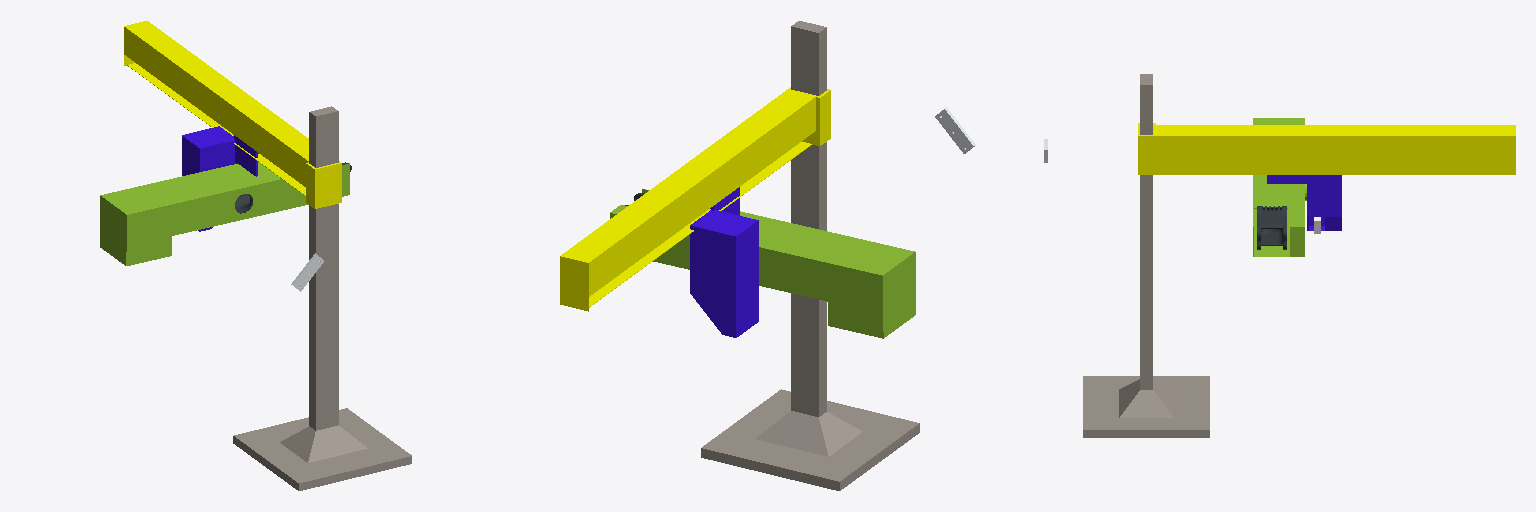
The robot description file, URDF, robot "MG6010":
<?xml version="1.0" encoding="utf-8"?>
<!--
MG6010 FLU (Front-Left-Up) URDF for Gazebo Harmonic Simulation
Based on SolidWorks export v12 (2024-10-17) with Gazebo additions:
  - Joint names without spaces (required by Gazebo + motion_controller)
  - Non-zero effort/velocity limits (required for Gazebo physics)
  - Lightweight virtual links (prevents phantom mass dragging arm)
  - JointPositionController plugins with tuned PID
  - Mesh paths use package://robot_description/

Original SolidWorks URDF: sw_urdf_exporter 1.6.0-4-g7f85cfe
-->
<robot name="MG6010">

  <!-- ==================== base_link ==================== -->
  <link name="base_link">
    <inertial>
      <origin xyz="-0.001334 3.1586E-15 0.18943" rpy="0 0 0" />
      <mass value="29.128" />
      <inertia ixx="2.1068" ixy="-3.3076E-15" ixz="-0.0069722"
               iyy="2.1115" iyz="1.688E-14" izz="0.22457" />
    </inertial>
    <visual>
      <origin xyz="0 0 0" rpy="0 0 0" />
      <geometry>
        <mesh filename="package://robot_description/meshes/base_link.STL" />
      </geometry>
      <material name="">
        <color rgba="0.65098 0.61961 0.58824 1" />
      </material>
    </visual>
    <collision>
      <origin xyz="0 0 0" rpy="0 0 0" />
      <geometry>
        <mesh filename="package://robot_description/meshes/base_link.STL" />
      </geometry>
    </collision>
  </link>

  <!-- ==================== link2 ==================== -->
  <link name="link2">
    <inertial>
      <origin xyz="0.0023258 0.39197 0.0012124" rpy="0 0 0" />
      <mass value="7.2824" />
      <inertia ixx="0.56505" ixy="-0.0011051" ixz="0.00023875"
               iyy="0.0071252" iyz="-0.00046822" izz="0.56327" />
    </inertial>
    <visual>
      <origin xyz="0 0 -0.445" rpy="0 0 0" />
      <geometry>
        <mesh filename="package://robot_description/meshes/link2.STL" />
      </geometry>
      <material name="">
        <color rgba="1 1 0 1" />
      </material>
    </visual>
    <collision>
      <origin xyz="0 0 0" rpy="0 0 0" />
      <geometry>
        <mesh filename="package://robot_description/meshes/link2.STL" />
      </geometry>
    </collision>
  </link>

  <!-- joint2: prismatic Z (lifts the arm vertically) -->
  <joint name="joint2" type="prismatic">
    <origin xyz="0 0 0.45922" rpy="0 0 0" />
    <parent link="base_link" />
    <child link="link2" />
    <axis xyz="0 0 1" />
    <limit lower="0.1" upper="0.32" effort="100" velocity="0.5" />
  </joint>

  <!-- ==================== link4 ==================== -->
  <link name="link4">
    <inertial>
      <origin xyz="-0.044144 0.0378 -0.072925" rpy="0 0 0" />
      <mass value="0.86357" />
      <inertia ixx="0.0063398" ixy="0.00091722" ixz="-0.0017328"
               iyy="0.0061419" iyz="0.0015638" izz="0.0031822" />
    </inertial>
    <visual>
      <origin xyz="0.008 -0.334 -0.459" rpy="0 0 0" />
      <geometry>
        <mesh filename="package://robot_description/meshes/link4.STL" />
      </geometry>
      <material name="">
        <color rgba="0.292156862745098 0.119607843137255 0.933333333333333 1" />
      </material>
    </visual>
    <collision>
      <origin xyz="0 0 0" rpy="0 0 0" />
      <geometry>
        <mesh filename="package://robot_description/meshes/link4.STL" />
      </geometry>
    </collision>
  </link>

  <!-- joint4: prismatic Y (horizontal extension) -->
  <joint name="joint4" type="prismatic">
    <origin xyz="0 0.33411 0" rpy="0 0 0" />
    <parent link="link2" />
    <child link="link4" />
    <axis xyz="0 1 0" />
    <limit lower="-0.250" upper="0.350" effort="100" velocity="0.5" />
  </joint>

  <!-- ==================== link7 (camera bracket) ==================== -->
  <link name="link7">
    <inertial>
      <origin xyz="-0.004 0.0041238 0" rpy="0 0 0" />
      <mass value="0.05924" />
      <inertia ixx="4.4262E-05" ixy="0" ixz="0"
               iyy="4.0102E-05" iyz="0" izz="4.7957E-06" />
    </inertial>
    <visual>
      <origin xyz="0.234 -0.395 -0.144" rpy="0 -0.7854 1.5708" />
      <geometry>
        <mesh filename="package://robot_description/meshes/link7.STL" />
      </geometry>
      <material name="">
        <color rgba="0.89804 0.91765 0.92941 1" />
      </material>
    </visual>
    <collision>
      <origin xyz="0 0 0" rpy="0 0 0" />
      <geometry>
        <mesh filename="package://robot_description/meshes/link7.STL" />
      </geometry>
    </collision>
  </link>

  <joint name="joint7" type="fixed">
    <origin xyz="-0.062994 0.061 -0.19179" rpy="0 0.7854 0" />
    <parent link="link4" />
    <child link="link7" />
  </joint>

  <!-- ==================== camera_mount_link (virtual - lightweight) ==================== -->
  <link name="camera_mount_link">
    <inertial>
      <origin xyz="0 0 0" rpy="0 0 0" />
      <mass value="0.01" />
      <inertia ixx="0.0001" ixy="0" ixz="0" iyy="0.0001" iyz="0" izz="0.0001" />
    </inertial>
    <visual>
      <geometry>
        <box size="0.001 0.001 0.001"/>
      </geometry>
    </visual>
    <collision>
      <origin xyz="0 0 0" rpy="0 0 0" />
      <geometry>
        <box size="0.001 0.001 0.001"/>
      </geometry>
    </collision>
  </link>

  <joint name="camera_mount_joint" type="fixed">
    <origin xyz="0 0 0" rpy="-1.5708 0 -1.5708" />
    <parent link="link7" />
    <child link="camera_mount_link" />
  </joint>

  <!-- ==================== camera_link ==================== -->
  <link name="camera_link">
    <inertial>
      <origin xyz="0 0 0" rpy="0 0 0" />
      <mass value="0.044809" />
      <inertia ixx="3.1898E-05" ixy="0" ixz="0"
               iyy="4.0973E-06" iyz="0" izz="3.3708E-05" />
    </inertial>
    <visual>
      <origin xyz="0.395 -0.145 -0.2335" rpy="0 0.7854 1.5708" />
      <geometry>
        <mesh filename="package://robot_description/meshes/camera_link.STL" />
      </geometry>
      <material name="">
        <color rgba="1 1 1 1" />
      </material>
    </visual>
    <collision>
      <origin xyz="0 0 0" rpy="0 0 0" />
      <geometry>
        <mesh filename="package://robot_description/meshes/camera_link.STL" />
      </geometry>
    </collision>
  </link>

  <joint name="camera_link_joint" type="fixed">
    <origin xyz="0.016845 0.100461 -0.077129" rpy="1.5708 0.785398 0" />
    <parent link="yanthra_link" />
    <child link="camera_link" />
  </joint>

  <!-- ==================== link3 ==================== -->
  <link name="link3">
    <inertial>
      <origin xyz="-0.033163 -0.04027 -0.0050659" rpy="0 0 0" />
      <mass value="1.4316" />
      <inertia ixx="0.0037572" ixy="-0.00082268" ixz="-0.0011479"
               iyy="0.043868" iyz="-0.00017008" izz="0.044751" />
    </inertial>
    <visual>
      <origin xyz="0.069 -0.378 -0.330" rpy="0 0 0" />
      <geometry>
        <mesh filename="package://robot_description/meshes/link3.STL" />
      </geometry>
      <material name="">
        <color rgba="0.592156862745098 0.79607843137255 0.233333333333333 1" />
      </material>
    </visual>
    <collision>
      <origin xyz="0 0 0" rpy="0 0 0" />
      <geometry>
        <mesh filename="package://robot_description/meshes/link3.STL" />
      </geometry>
    </collision>
  </link>

  <!-- joint3: revolute (arm tilt - critical for holding arm up) -->
  <joint name="joint3" type="revolute">
    <origin xyz="-0.0675 0.042 -0.127" rpy="0 0.0063952 0" />
    <parent link="link4" />
    <child link="link3" />
    <axis xyz="0 -1 0" />
    <limit lower="-0.9" upper="0.0" effort="100" velocity="1.0" />
  </joint>

  <!-- ==================== yanthra_link (virtual - lightweight!) ==================== -->
  <link name="yanthra_link">
    <inertial>
      <origin xyz="0 0 0" rpy="0 0 0" />
      <mass value="0.01" />
      <inertia ixx="0.0001" ixy="0" ixz="0" iyy="0.0001" iyz="0" izz="0.0001" />
    </inertial>
    <visual>
      <geometry>
        <box size="0.001 0.001 0.001"/>
      </geometry>
    </visual>
    <collision>
      <origin xyz="0 0 0" rpy="0 0 0" />
      <geometry>
        <box size="0.001 0.001 0.001"/>
      </geometry>
    </collision>
  </link>

  <joint name="yantra_joint" type="fixed">
    <origin xyz="0 -0.082 0" rpy="0 0 0" />
    <parent link="link3" />
    <child link="yanthra_link" />
  </joint>

  <!-- ==================== link5_origin (virtual - lightweight!) ==================== -->
  <link name="link5_origin">
    <inertial>
      <origin xyz="0 0 0" rpy="0 0 0" />
      <mass value="0.01" />
      <inertia ixx="0.0001" ixy="0" ixz="0" iyy="0.0001" iyz="0" izz="0.0001" />
    </inertial>
    <visual>
      <geometry>
        <box size="0.001 0.001 0.001"/>
      </geometry>
    </visual>
    <collision>
      <origin xyz="0 0 0" rpy="0 0 0" />
      <geometry>
        <box size="0.001 0.001 0.001"/>
      </geometry>
    </collision>
  </link>

  <joint name="link5_origin_joint" type="fixed">
    <origin xyz="0 0 0" rpy="0 0 0" />
    <parent link="yanthra_link" />
    <child link="link5_origin" />
  </joint>

  <!-- ==================== link5 ==================== -->
  <link name="link5">
    <inertial>
      <origin xyz="-0.24702 0.0038414 0.0022102" rpy="0 0 0" />
      <mass value="0.50477" />
      <inertia ixx="0.00073373" ixy="0.00051748" ixz="-0.00013446"
               iyy="0.014642" iyz="4.7355E-06" izz="0.014712" />
    </inertial>
    <visual>
      <origin xyz="-0.209 -0.300 -0.329" rpy="0 0 0" />
      <geometry>
        <mesh filename="package://robot_description/meshes/link5.STL" />
      </geometry>
      <material name="">
        <color rgba="0.25 0.28 0.3 1" />
      </material>
    </visual>
    <collision>
      <origin xyz="0 0 0" rpy="0 0 0" />
      <geometry>
        <mesh filename="package://robot_description/meshes/link5.STL" />
      </geometry>
    </collision>
  </link>

  <!-- joint5: prismatic X (arm extension) -->
  <joint name="joint5" type="prismatic">
    <origin xyz="0.27774 0.00375 -0.001" rpy="0 0 0" />
    <parent link="link5_origin" />
    <child link="link5" />
    <axis xyz="1 0 0" />
    <limit lower="0" upper="0.450" effort="100" velocity="0.5" />
  </joint>

  <!-- ==================== ee_link (virtual - lightweight!) ==================== -->
  <link name="ee_link">
    <inertial>
      <origin xyz="0 0 0" rpy="0 0 0" />
      <mass value="0.01" />
      <inertia ixx="0.0001" ixy="0" ixz="0" iyy="0.0001" iyz="0" izz="0.0001" />
    </inertial>
    <visual>
      <geometry>
        <box size="0.001 0.001 0.001"/>
      </geometry>
    </visual>
    <collision>
      <origin xyz="0 0 0" rpy="0 0 0" />
      <geometry>
        <box size="0.001 0.001 0.001"/>
      </geometry>
    </collision>
  </link>

  <joint name="ee_joint" type="fixed">
    <origin xyz="0 0 0" rpy="0 0 0" />
    <parent link="link5" />
    <child link="ee_link" />
  </joint>

  <!-- ============================================================ -->
  <!-- Gazebo Joint Position Controller Plugins                      -->
  <!-- Using libgz-sim-*.so format (matches working MG6010 package) -->
  <!-- PID tuned: higher D than working MG6010 to reduce oscillation -->
  <!-- ============================================================ -->

  <!-- Joint 2: prismatic Z (lifts ~13.6 kg against gravity) -->
  <gazebo>
    <plugin filename="libgz-sim-joint-position-controller-system.so"
            name="gz::sim::systems::JointPositionController">
      <joint_name>joint2</joint_name>
      <topic>joint2_cmd</topic>
      <p_gain>150</p_gain>
      <i_gain>0.5</i_gain>
      <d_gain>40</d_gain>
      <i_max>20</i_max>
      <i_min>-20</i_min>
      <cmd_max>100</cmd_max>
      <cmd_min>-100</cmd_min>
      <cmd_offset>0.1</cmd_offset>
    </plugin>
  </gazebo>

  <!-- Joint 3: revolute (critical - holds arm up against gravity) -->
  <gazebo>
    <plugin filename="libgz-sim-joint-position-controller-system.so"
            name="gz::sim::systems::JointPositionController">
      <joint_name>joint3</joint_name>
      <topic>joint3_cmd</topic>
      <p_gain>200</p_gain>
      <i_gain>1.0</i_gain>
      <d_gain>50</d_gain>
      <i_max>30</i_max>
      <i_min>-30</i_min>
      <cmd_max>100</cmd_max>
      <cmd_min>-100</cmd_min>
      <cmd_offset>0.0</cmd_offset>
    </plugin>
  </gazebo>

  <!-- Joint 4: prismatic Y (horizontal - lighter load) -->
  <gazebo>
    <plugin filename="libgz-sim-joint-position-controller-system.so"
            name="gz::sim::systems::JointPositionController">
      <joint_name>joint4</joint_name>
      <topic>joint4_cmd</topic>
      <p_gain>100</p_gain>
      <i_gain>0.5</i_gain>
      <d_gain>20</d_gain>
      <i_max>20</i_max>
      <i_min>-20</i_min>
      <cmd_max>100</cmd_max>
      <cmd_min>-100</cmd_min>
      <cmd_offset>0.0</cmd_offset>
    </plugin>
  </gazebo>

  <!-- Joint 5: prismatic X (horizontal extension - lightest load) -->
  <gazebo>
    <plugin filename="libgz-sim-joint-position-controller-system.so"
            name="gz::sim::systems::JointPositionController">
      <joint_name>joint5</joint_name>
      <topic>joint5_cmd</topic>
      <p_gain>100</p_gain>
      <i_gain>0.5</i_gain>
      <d_gain>15</d_gain>
      <i_max>20</i_max>
      <i_min>-20</i_min>
      <cmd_max>100</cmd_max>
      <cmd_min>-100</cmd_min>
      <cmd_offset>0.0</cmd_offset>
    </plugin>
  </gazebo>

  <!-- Joint State Publisher (publishes all joint positions to Gazebo) -->
  <gazebo>
    <plugin filename="libgz-sim-joint-state-publisher-system.so"
            name="gz::sim::systems::JointStatePublisher">
      <joint_name>joint2</joint_name>
      <joint_name>joint3</joint_name>
      <joint_name>joint4</joint_name>
      <joint_name>joint5</joint_name>
    </plugin>
  </gazebo>

  <!-- Gazebo material colors -->
  <gazebo reference="base_link">
    <material>Gazebo/Grey</material>
  </gazebo>
  <gazebo reference="link2">
    <material>Gazebo/Blue</material>
  </gazebo>
  <gazebo reference="link3">
    <material>Gazebo/Green</material>
  </gazebo>
  <gazebo reference="link4">
    <material>Gazebo/Purple</material>
  </gazebo>
  <gazebo reference="link5">
    <material>Gazebo/White</material>
  </gazebo>

</robot>

--- Render facts (derived) ---
The picture shows the robot from 3 angles, left to right: view 1: azimuth 30°, elevation 25°; view 2: azimuth 150°, elevation 25°; view 3: azimuth 270°, elevation 25°; orthographic projection.
Robot: MG6010 — 11 links, 10 joints (1 revolute, 3 prismatic, 6 fixed); root link base_link; default pose: all joints at 0 but 1 set to mid-range because 0 is outside their limits (joint2 = 0.21).
Visible links, largest first — view 1: base_link, link2, link3, link4; view 2: base_link, link2, link3, link4, link7; view 3: link2, base_link, link3, link4, link5.
Boxes of the visible links, <box> form: base_link: <box>233,106,411,490</box>; link2: <box>124,21,341,208</box>; link3: <box>100,162,349,265</box>; link4: <box>182,126,258,231</box>; base_link: <box>701,21,919,490</box>; link2: <box>560,87,830,311</box>; link3: <box>610,189,915,338</box>; link4: <box>690,187,758,337</box>; link7: <box>935,107,975,153</box>; link2: <box>1138,123,1515,174</box>; base_link: <box>1083,74,1209,437</box>; link3: <box>1253,118,1306,256</box>; link4: <box>1267,175,1341,230</box>; link5: <box>1257,206,1286,249</box>.
Size in the robot's own frame: 0.6017 by 1.11 by 0.8638 metres.
Meshes: 7 distinct files referenced, 7 mesh visuals loaded (7 binary STL).
